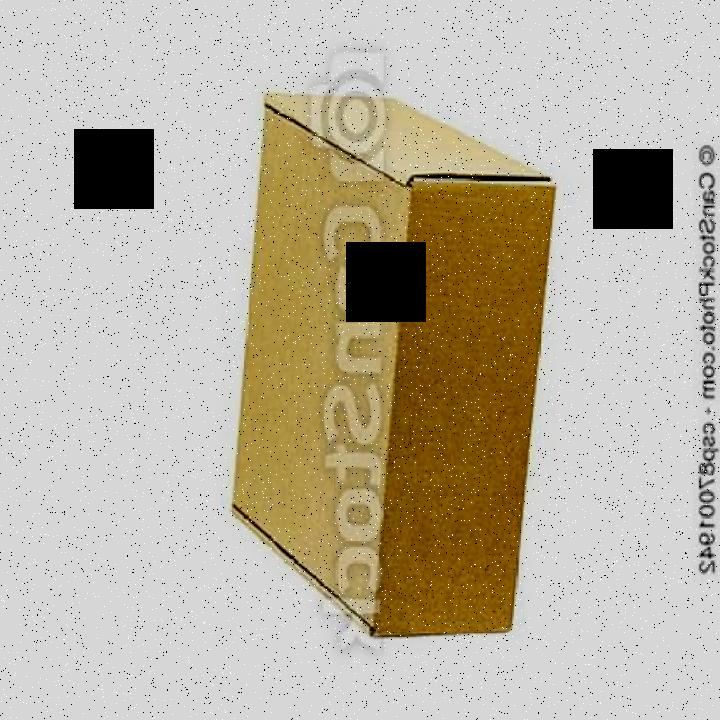box: (217, 76, 573, 651)
